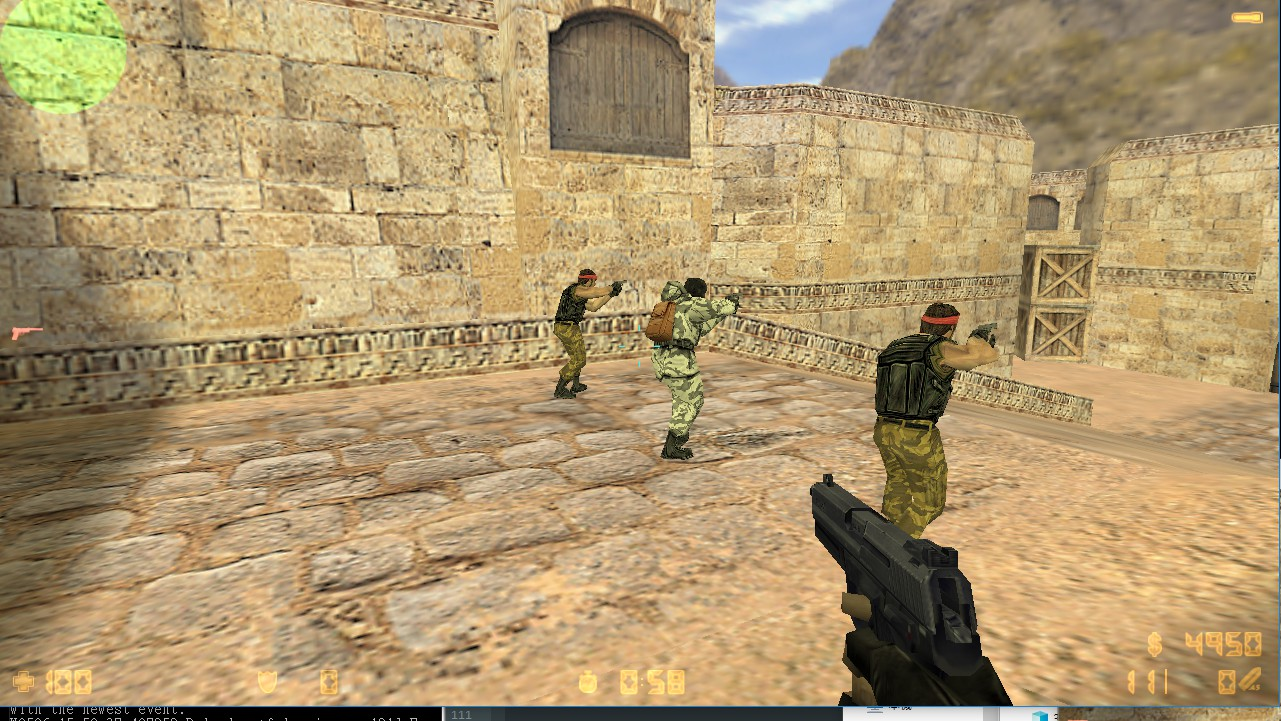person: (885, 295, 965, 550), (649, 273, 716, 473), (551, 263, 592, 402)
